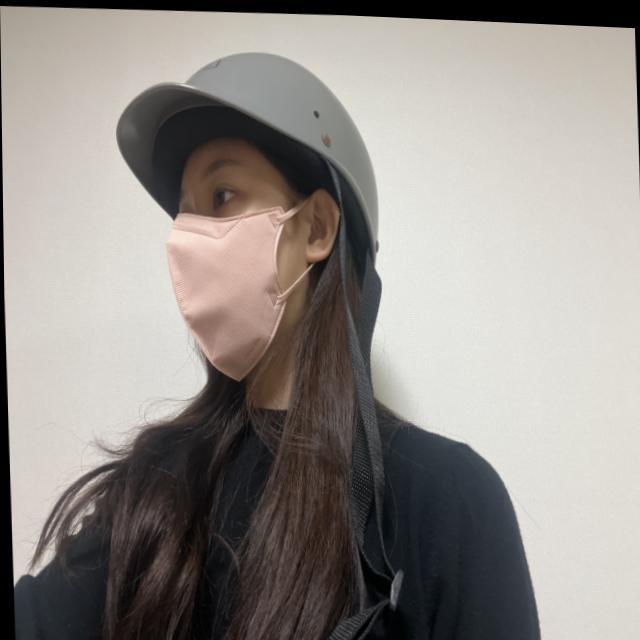Helmet: (96, 40, 388, 400)
